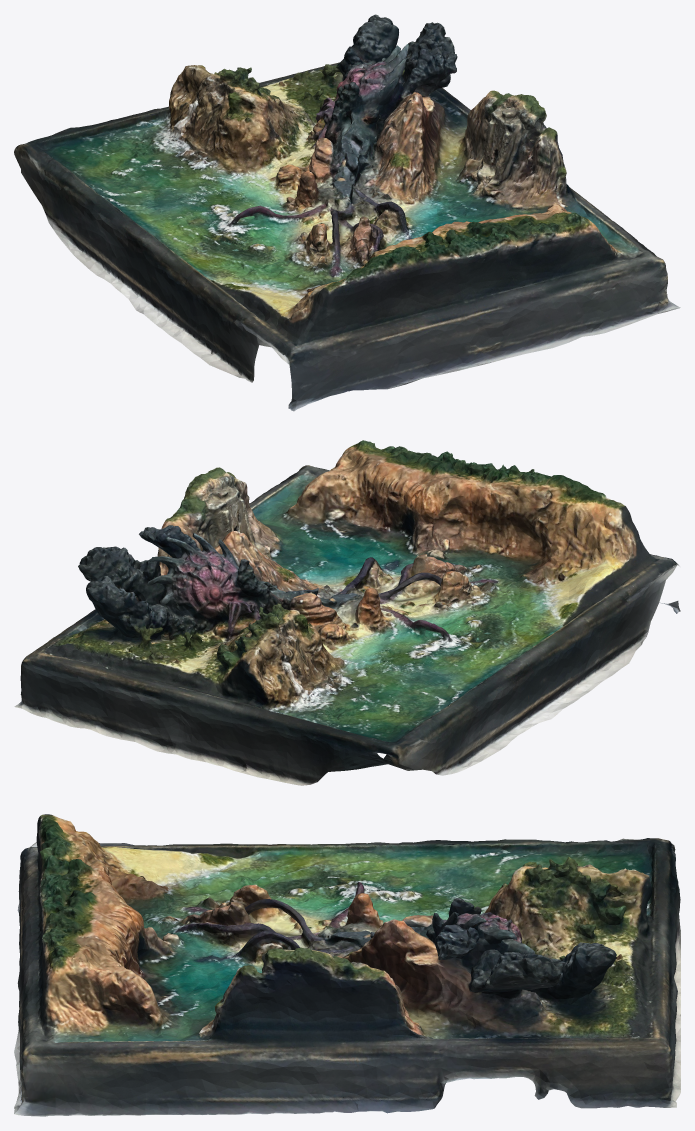
The model's file is NautaloidCrash_BaldursGate3.glb.
The picture shows the model from 3 angles, top to bottom: view 1: azimuth 30°, elevation 25°; view 2: azimuth 150°, elevation 25°; view 3: azimuth 270°, elevation 25°; orthographic projection. The views are drawn at different scales.
Size of the model in its own units: 1.26 by 0.4388 by 1.55.
1 material, 1 textured.
